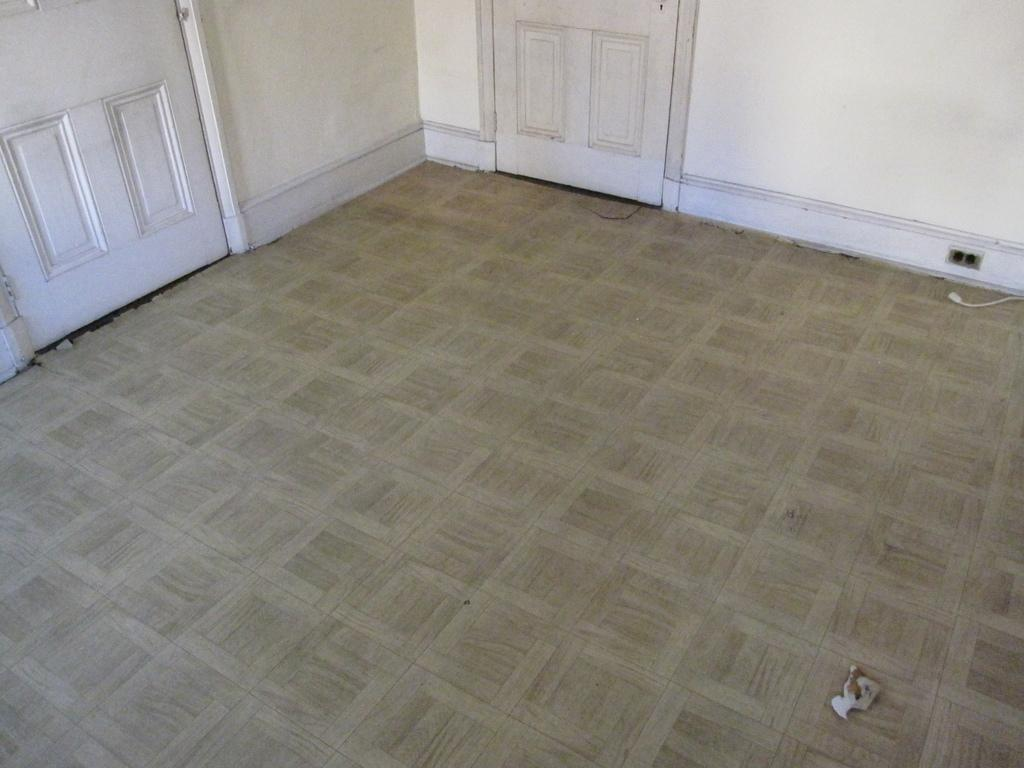door: (0, 9, 234, 246), (496, 4, 642, 164)
